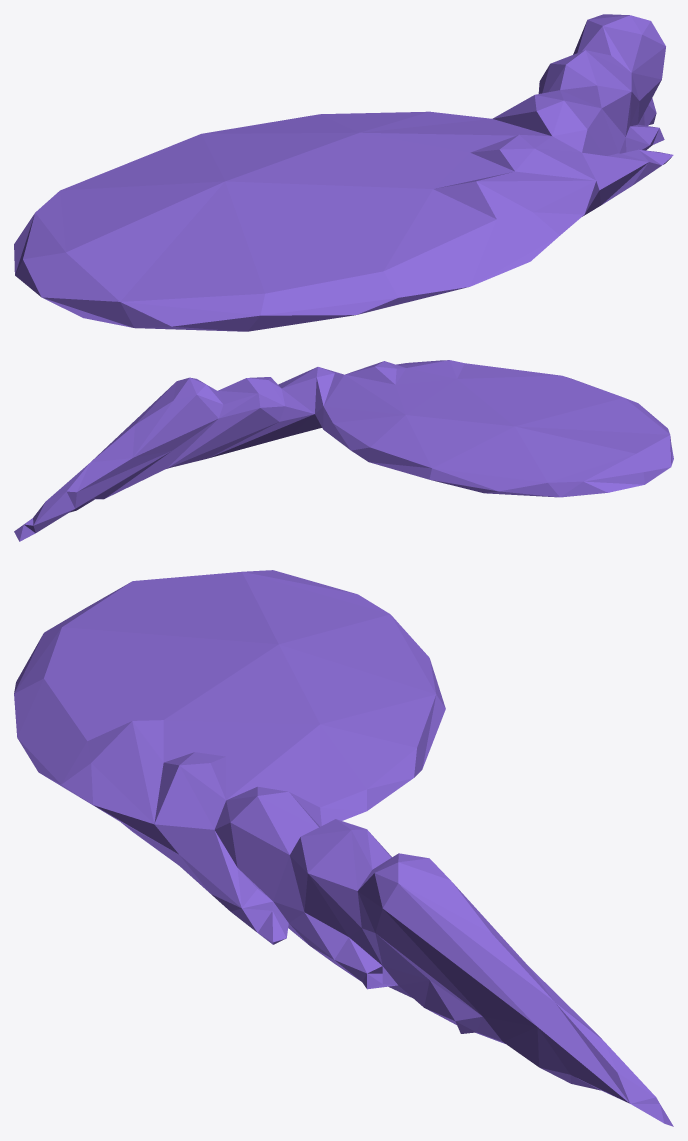
Rendered from spirit_raven_wing.glb.
3 views of the same model, one above another, from view 1: azimuth 30°, elevation 25°; view 2: azimuth 150°, elevation 25°; view 3: azimuth 270°, elevation 25° (orthographic). The views are drawn at different scales.
Visible parts, largest first — view 1: spirit_raven_wing; view 2: spirit_raven_wing; view 3: spirit_raven_wing.
Boxes of the visible parts, <box> form: spirit_raven_wing: <box>14,14,673,331</box>; spirit_raven_wing: <box>14,360,673,541</box>; spirit_raven_wing: <box>14,570,673,1126</box>.
Size of the model in its own units: 0.9717 by 0.2215 by 0.666.
